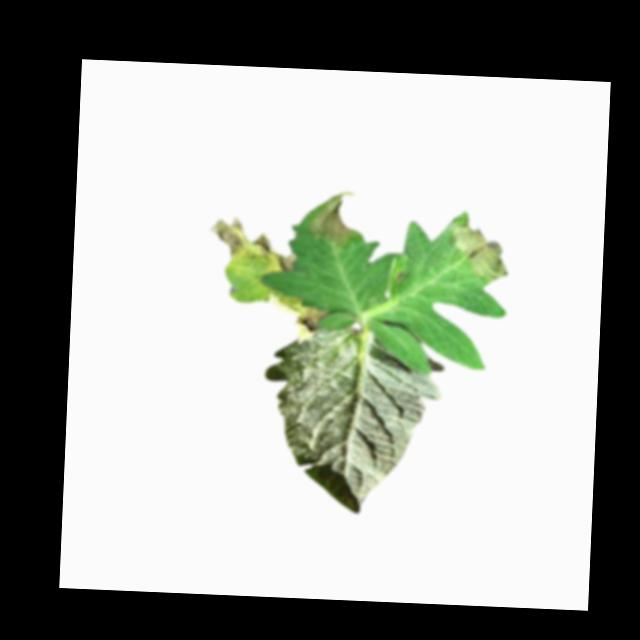Late_blight: (444, 221, 511, 282), (264, 292, 330, 341), (307, 189, 357, 247), (204, 212, 247, 261), (251, 232, 274, 258), (275, 253, 297, 273)
healthy: (259, 323, 445, 517)
